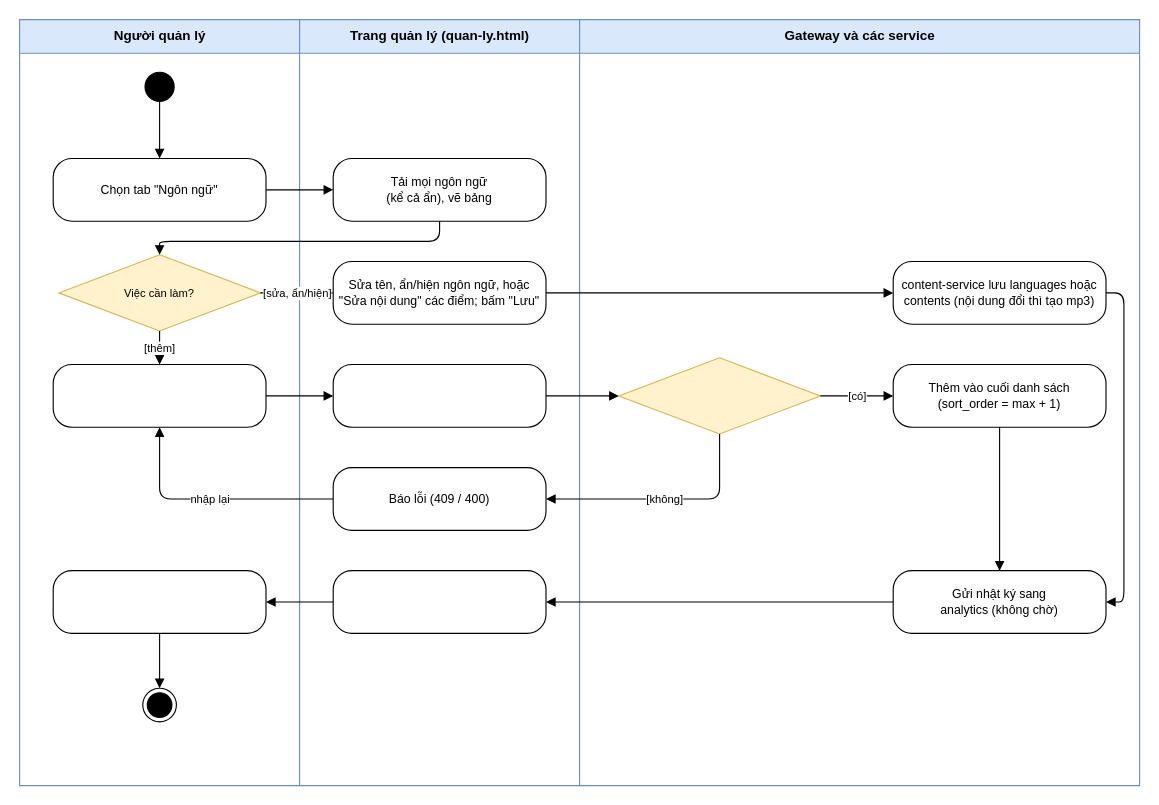
The diagram is 1159 pixels wide and 805 high, and some of its shapes have lost their labels. The shapes that lost their labels are listed below. From the top down, each one's centre as x and y in pixels, then its label:
the point at 159,395: Nhập mã (ví dụ zh) và tên (中文), bấm "Thêm ngôn ngữ"
the point at 439,395: Gửi POST /api/admin/languages
the point at 719,395: Mã đúng dạng và chưa có?
the point at 159,601: Mở khung "Sửa nội dung" để nhập cho từng điểm
the point at 439,601: Báo đã lưu; du khách thấy ngôn ngữ (nếu không ẩn)
